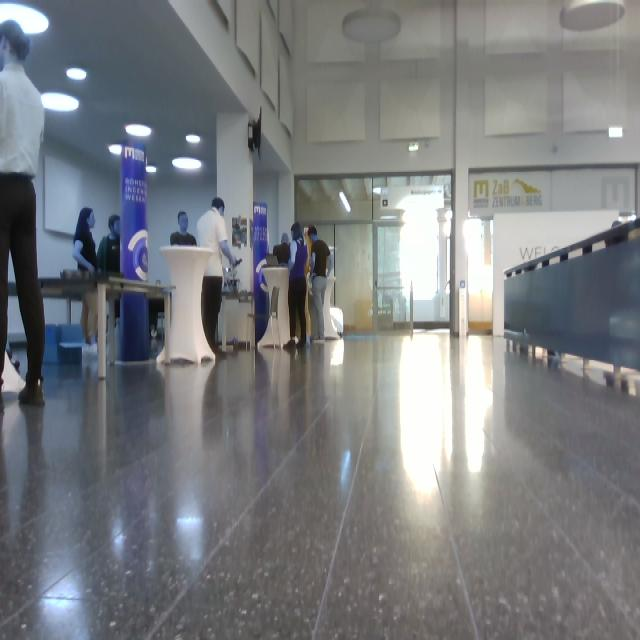door: (335, 222, 375, 333)
light bulb: (342, 5, 401, 45), (560, 1, 625, 32), (1, 2, 50, 36), (41, 92, 79, 113), (463, 219, 483, 243), (172, 157, 202, 170), (125, 124, 152, 137), (339, 190, 351, 213), (66, 68, 87, 81), (608, 127, 623, 139), (443, 220, 452, 238), (109, 144, 122, 156), (186, 134, 201, 144), (408, 142, 419, 152), (146, 165, 157, 173)
person: (1, 20, 46, 406), (197, 197, 242, 352), (73, 206, 99, 345), (285, 222, 309, 349), (306, 225, 332, 341), (170, 212, 197, 246)
pillar: (119, 141, 150, 362)
staircase: (503, 216, 640, 396)
tiled floor: (1, 328, 639, 638)
